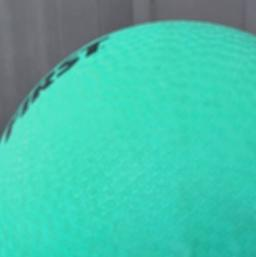algae: (0, 17, 256, 257)
